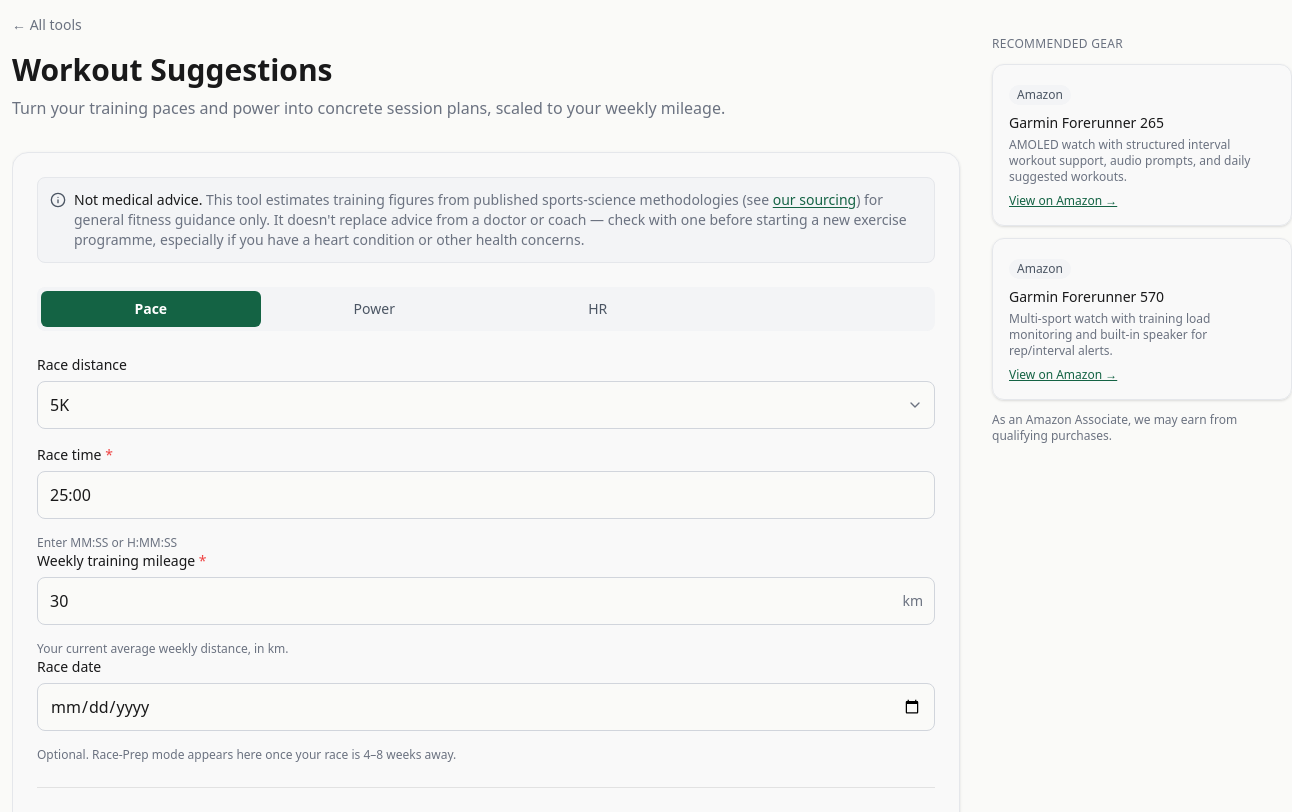
Scenario: HR mode › shows an inline error for an implausible LTHR
Click the tab "HR". click: (598, 309)
box: [488, 291, 708, 327]
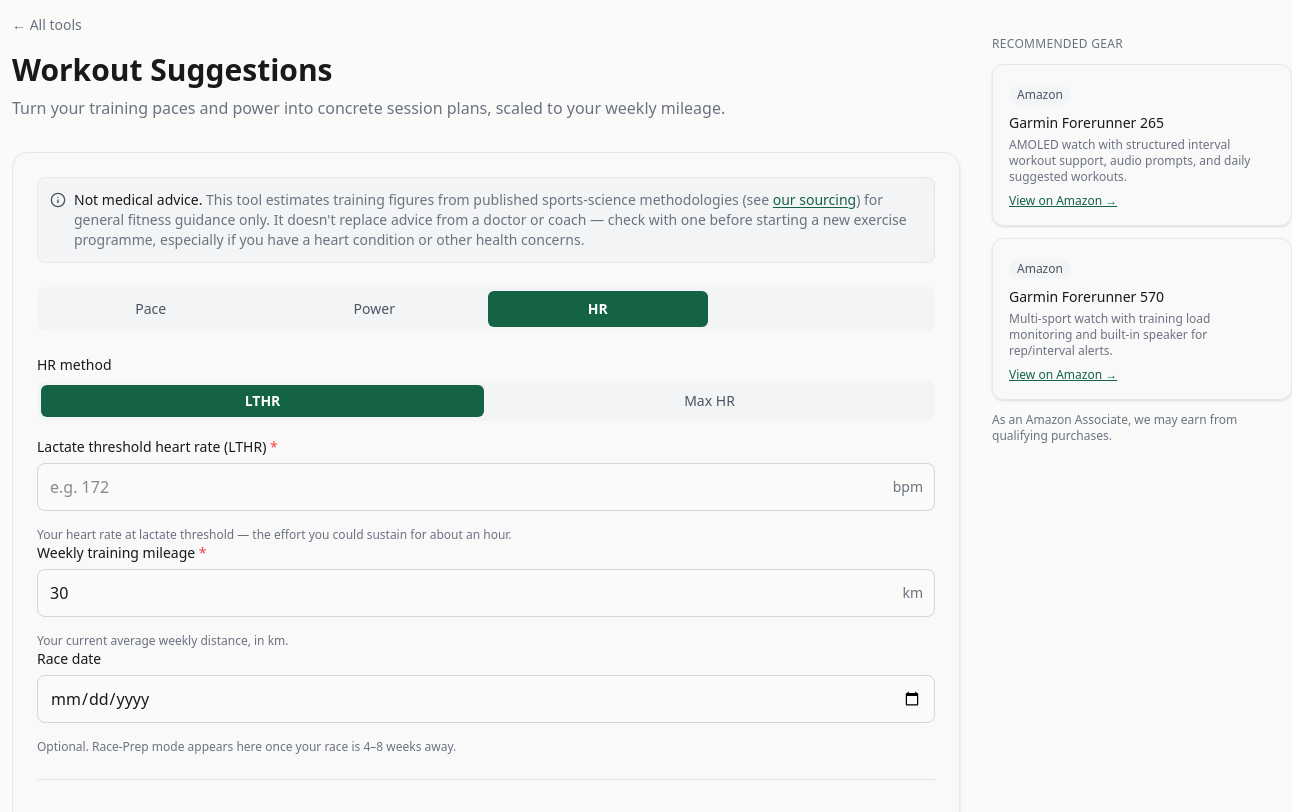
Type "250" into the field labelled "Lactate threshold heart rate (LTHR) *". click: (486, 487)
box: [37, 463, 935, 511]
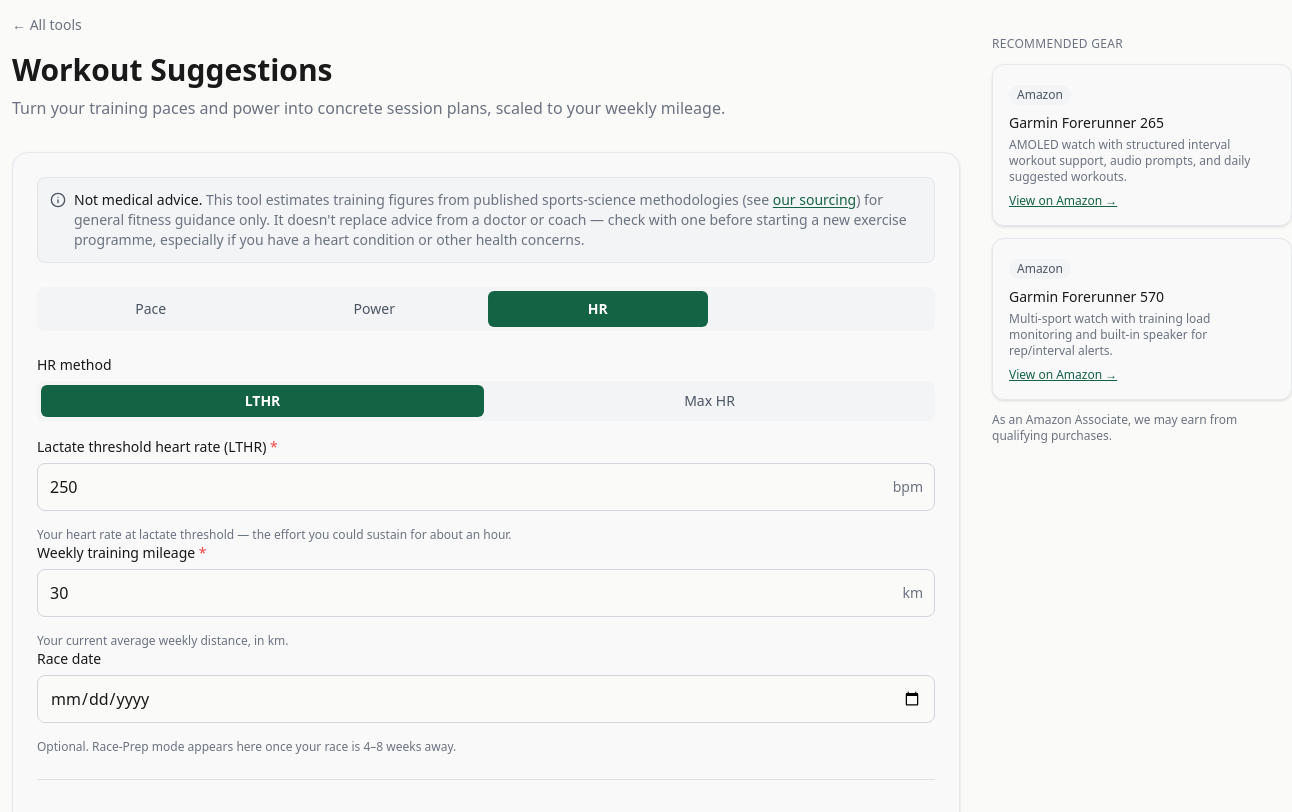
Leave the field labelled "Lactate threshold heart rate (LTHR) *", box [37, 463, 935, 511]
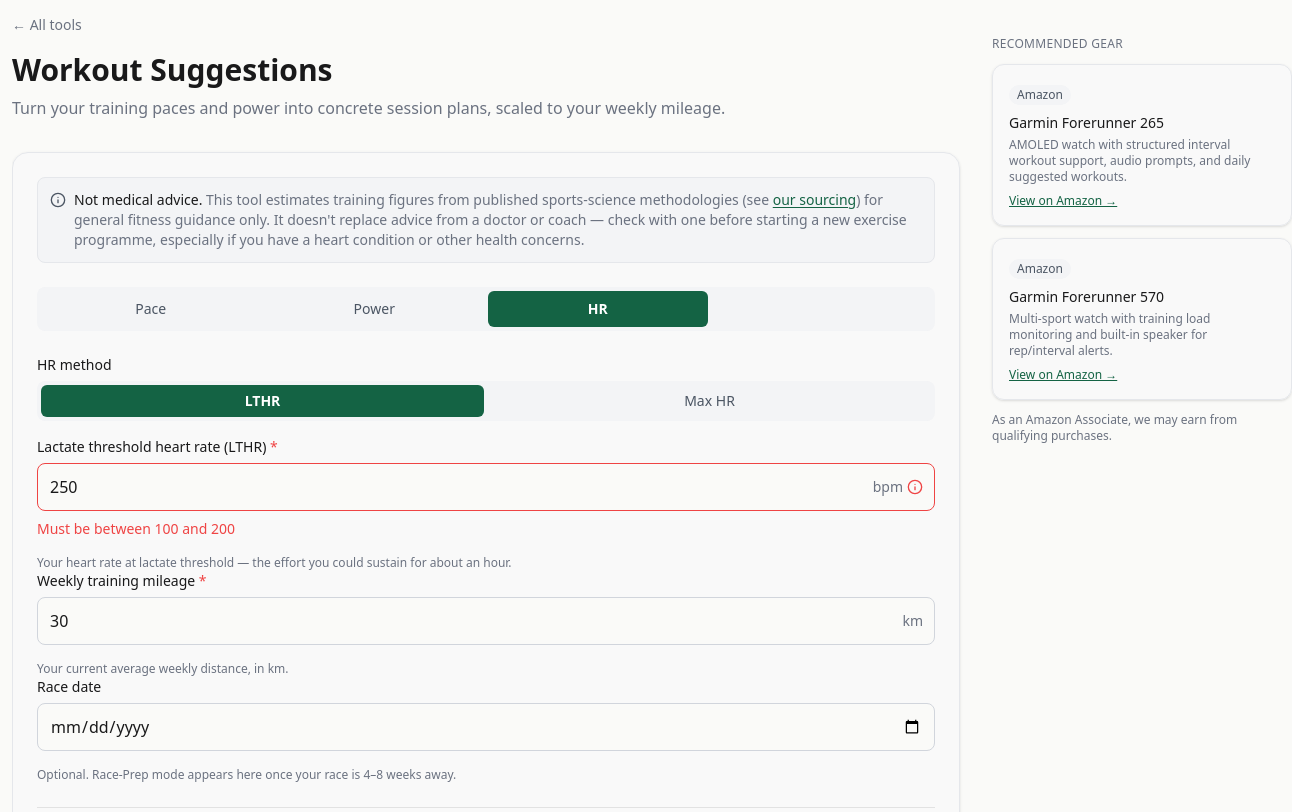
Result: the text "Must be between 100 and 200" is shown at [37, 519, 235, 538]
